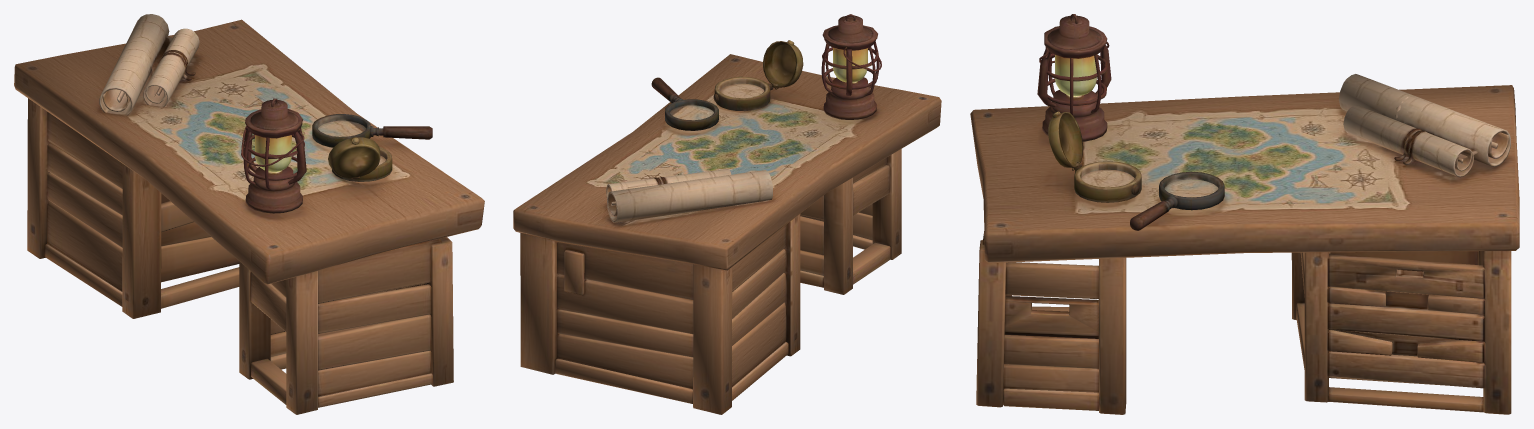
Rendered from crate_desk.glb.
3 renders of one model, left to right at view 1: azimuth 30°, elevation 25°; view 2: azimuth 150°, elevation 25°; view 3: azimuth 270°, elevation 25°, orthographic. The views are drawn at different scales.
Parts seen in each view (by area): view 1: tripo_node_8954d037-9d5a-4334-953f-f2e5069fb834; view 2: tripo_node_8954d037-9d5a-4334-953f-f2e5069fb834; view 3: tripo_node_8954d037-9d5a-4334-953f-f2e5069fb834.
Part boxes in pixels (box(x1,y1,x2,y2)): tripo_node_8954d037-9d5a-4334-953f-f2e5069fb834: box(14, 14, 484, 414); tripo_node_8954d037-9d5a-4334-953f-f2e5069fb834: box(513, 14, 941, 414); tripo_node_8954d037-9d5a-4334-953f-f2e5069fb834: box(970, 14, 1519, 414).
Size of the model in its own units: 0.5845 by 0.644 by 0.9995.
Materials: 1 (1 with a texture image).
